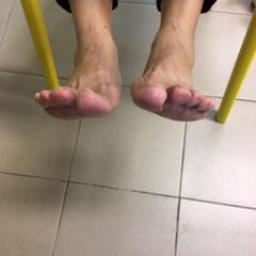Front View -Both Feet-: (24, 1, 234, 142)
